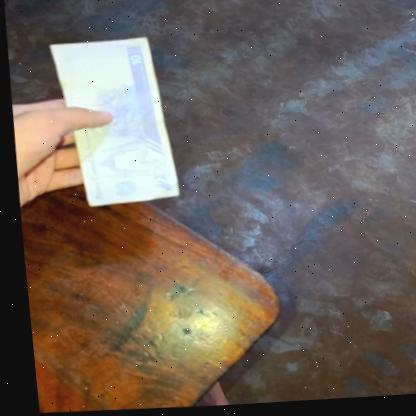ten-back-vef: (43, 35, 179, 209)
